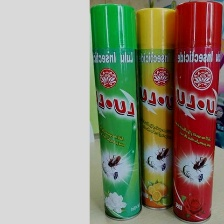insecticide: (89, 0, 143, 221), (169, 0, 222, 221), (132, 0, 176, 213)
